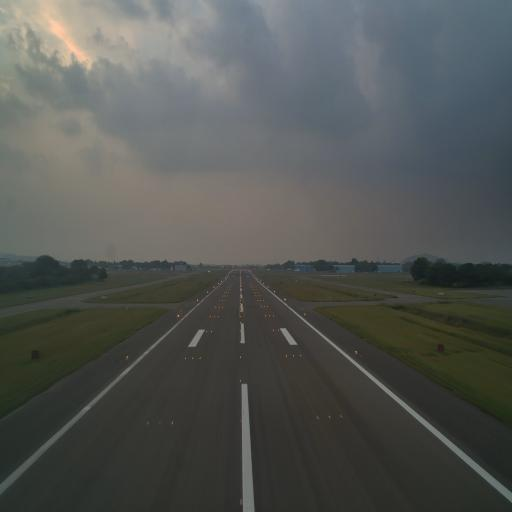off: (238, 415, 244, 425), (157, 419, 162, 429)
on: (238, 496, 244, 508), (315, 412, 320, 425), (338, 412, 344, 422), (146, 418, 151, 428), (327, 413, 332, 423), (291, 351, 296, 361), (124, 354, 130, 362), (170, 418, 174, 429), (354, 349, 359, 356), (284, 352, 289, 359), (298, 352, 302, 359), (198, 354, 202, 361), (239, 378, 243, 385), (239, 354, 243, 360), (183, 356, 187, 361), (190, 356, 194, 361)
